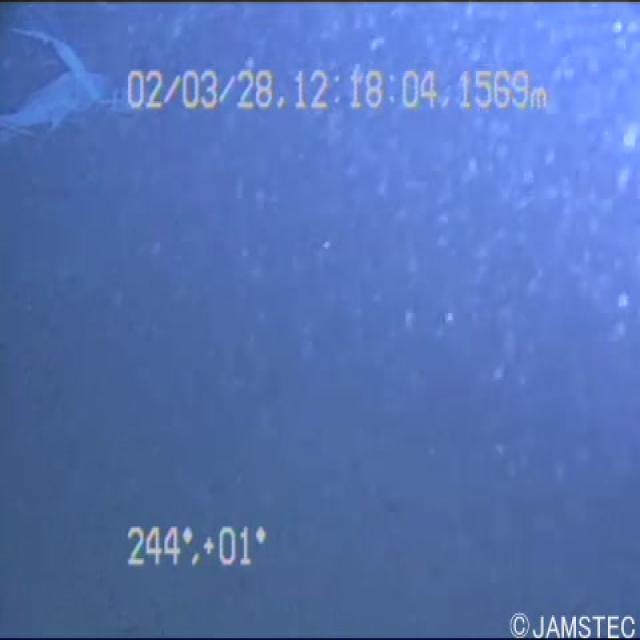plastic: (0, 27, 144, 162)
